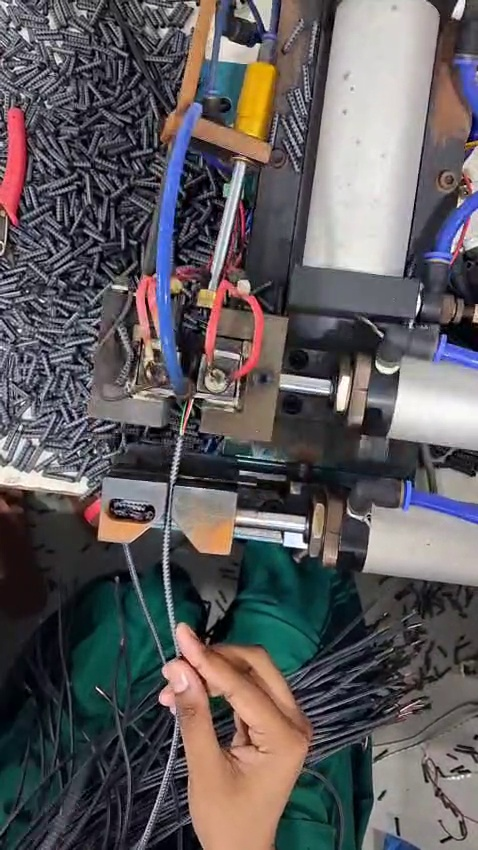machine: (82, 273, 303, 487)
peeled_wire: (163, 381, 208, 483)
